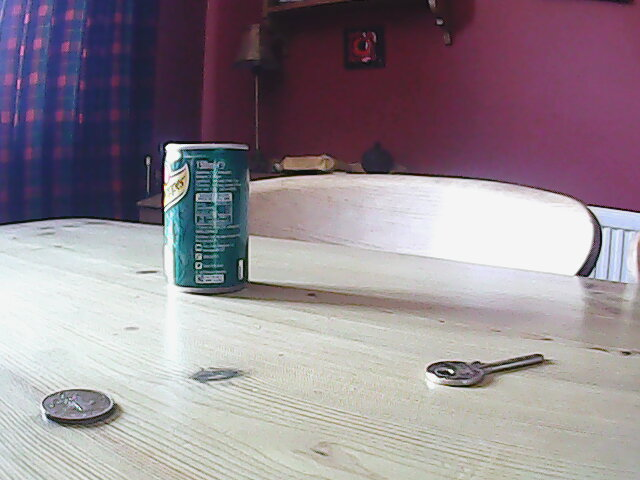Can: (158, 139, 257, 300)
Coin: (38, 385, 119, 424)
Key: (423, 348, 547, 387)
